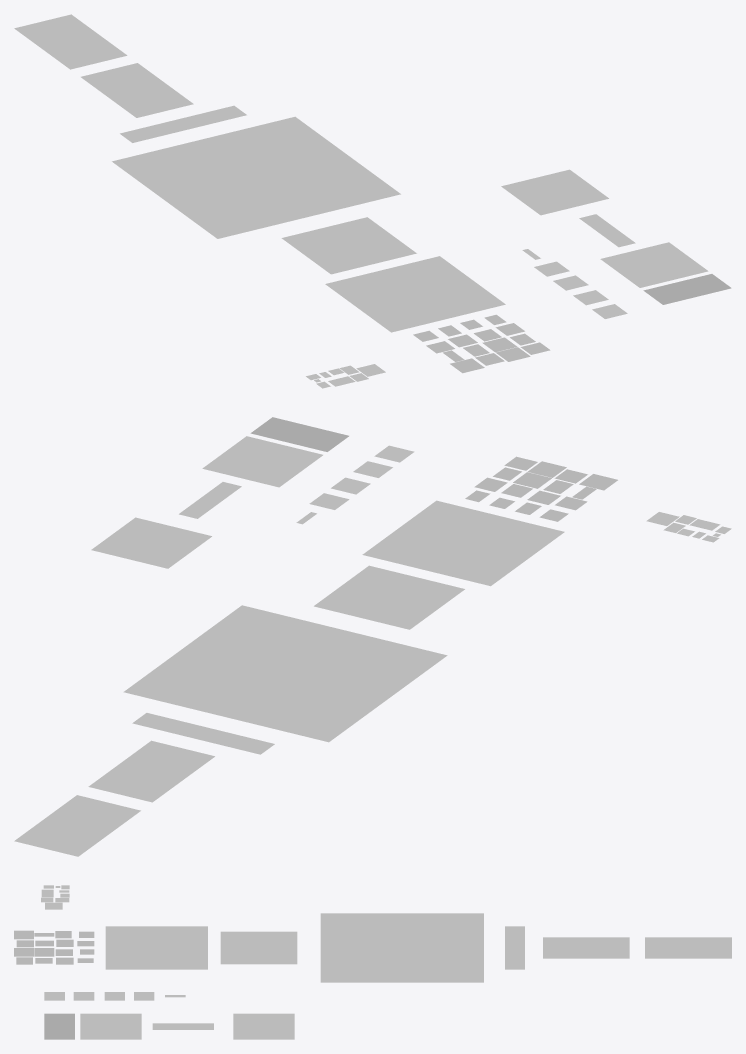
File: Sewerage_Decals.fbx
The picture shows the model from 3 angles, top to bottom: view 1: azimuth 30°, elevation 25°; view 2: azimuth 150°, elevation 25°; view 3: azimuth 270°, elevation 25°; orthographic projection. The views are drawn at different scales.
Visible parts, largest first — view 1: Decal_Concrete_Cracked_03, Decal_Concrete_Cracked_01, Decal_Concrete_Cracked_02, Decal_Concrete_Cracked_06, Decal_Concrete_Cracked_05, Decal_Grunge_04, Decal_Grunge_02, Decal_Concrete_Cracked_04, Decal_Grunge_01, Decal_Grunge_03; view 2: Decal_Concrete_Cracked_03, Decal_Concrete_Cracked_01, Decal_Concrete_Cracked_02, Decal_Concrete_Cracked_06, Decal_Concrete_Cracked_05, Decal_Grunge_02, Decal_Grunge_04, Decal_Concrete_Cracked_04, Decal_Grunge_01, Decal_Grunge_03; view 3: Decal_Concrete_Cracked_03, Decal_Concrete_Cracked_01, Decal_Concrete_Cracked_02, Decal_Concrete_Cracked_05, Decal_Concrete_Cracked_06, Decal_Grunge_04, Decal_Grunge_02, Decal_Concrete_Cracked_04, Decal_Grunge_01, Decal_Grunge_03.
Part boxes in pixels (left/top/right/bottom): Decal_Concrete_Cracked_03: left=112, top=116, right=400, bottom=238; Decal_Concrete_Cracked_01: left=325, top=256, right=505, bottom=332; Decal_Concrete_Cracked_02: left=281, top=217, right=416, bottom=274; Decal_Concrete_Cracked_06: left=14, top=14, right=127, bottom=69; Decal_Concrete_Cracked_05: left=81, top=63, right=193, bottom=117; Decal_Grunge_04: left=501, top=169, right=608, bottom=215; Decal_Grunge_02: left=600, top=242, right=708, bottom=287; Decal_Concrete_Cracked_04: left=120, top=105, right=246, bottom=142; Decal_Grunge_01: left=643, top=274, right=731, bottom=304; Decal_Grunge_03: left=579, top=214, right=635, bottom=247; Decal_Concrete_Cracked_03: left=123, top=605, right=447, bottom=742; Decal_Concrete_Cracked_01: left=362, top=500, right=564, bottom=586; Decal_Concrete_Cracked_02: left=314, top=565, right=464, bottom=629; Decal_Concrete_Cracked_06: left=14, top=795, right=140, bottom=856; Decal_Concrete_Cracked_05: left=88, top=740, right=214, bottom=802; Decal_Grunge_02: left=202, top=436, right=322, bottom=487; Decal_Grunge_04: left=91, top=517, right=211, bottom=568; Decal_Concrete_Cracked_04: left=132, top=713, right=274, bottom=754; Decal_Grunge_01: left=250, top=417, right=348, bottom=451; Decal_Grunge_03: left=179, top=482, right=241, bottom=518; Decal_Concrete_Cracked_03: left=320, top=913, right=483, bottom=982; Decal_Concrete_Cracked_01: left=105, top=926, right=207, bottom=969; Decal_Concrete_Cracked_02: left=220, top=931, right=297, bottom=964; Decal_Concrete_Cracked_05: left=543, top=937, right=629, bottom=958; Decal_Concrete_Cracked_06: left=645, top=937, right=731, bottom=958; Decal_Grunge_04: left=233, top=1013, right=294, bottom=1039; Decal_Grunge_02: left=80, top=1013, right=141, bottom=1039; Decal_Concrete_Cracked_04: left=505, top=926, right=524, bottom=969; Decal_Grunge_01: left=44, top=1013, right=74, bottom=1039; Decal_Grunge_03: left=152, top=1023, right=213, bottom=1029.
Size of the model in its own units: 3572 by 0.0006 by 7023.
